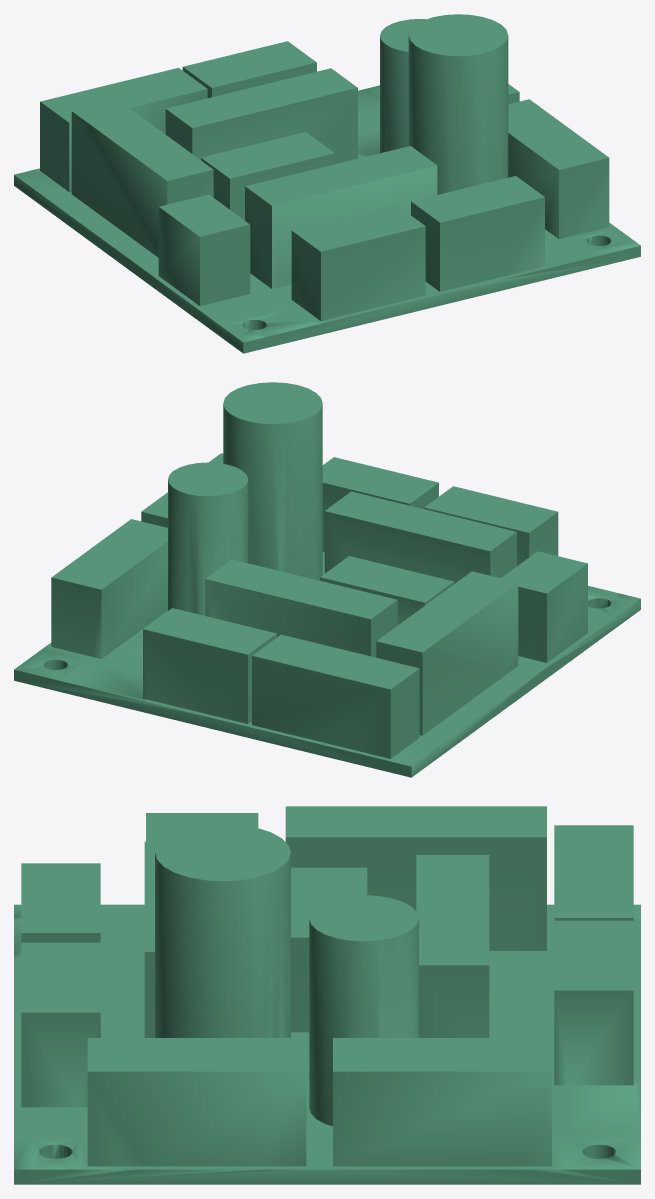
The model's file is pcb1_power_envolvente.glb.
3 renders of one model, top to bottom at view 1: azimuth 30°, elevation 25°; view 2: azimuth 150°, elevation 25°; view 3: azimuth 270°, elevation 25°, orthographic. The views are drawn at different scales.
Visible parts, largest first — view 1: PCB1_POWER_envolvente; view 2: PCB1_POWER_envolvente; view 3: PCB1_POWER_envolvente.
Part boxes in pixels (x1=…): PCB1_POWER_envolvente: x1=14, y1=14, x2=640, y2=353; PCB1_POWER_envolvente: x1=14, y1=382, x2=640, y2=777; PCB1_POWER_envolvente: x1=14, y1=806, x2=640, y2=1184.
Bounding box in the file's own units: 0.06 × 0.0276 × 0.06.
